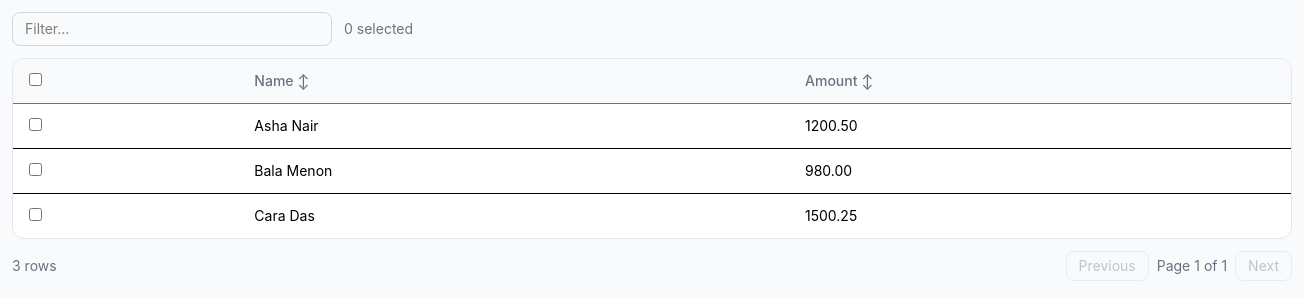
Scenario: DataTable › selects rows and reports the selection
Click the checkbox named "Select row r1": (36, 124) x1=29 y1=118 x2=42 y2=131
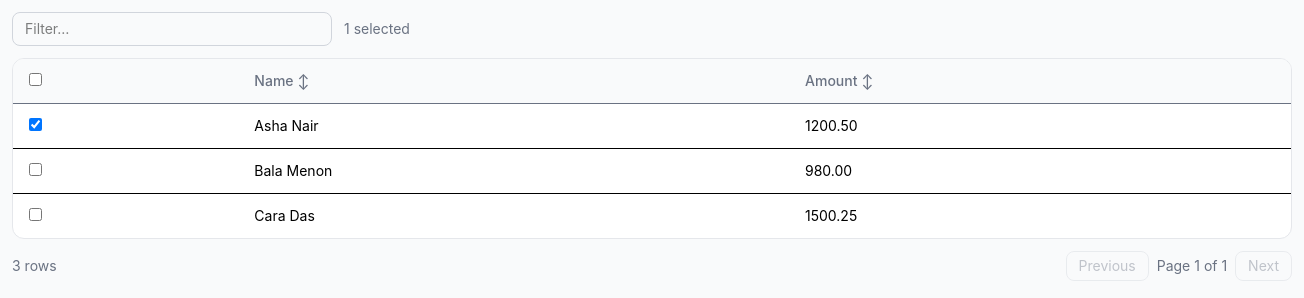
Check: the text "1 selected" is shown, box x1=344 y1=19 x2=410 y2=39
Click the checkbox named "Select all rows on this page": (36, 80) x1=29 y1=73 x2=42 y2=86
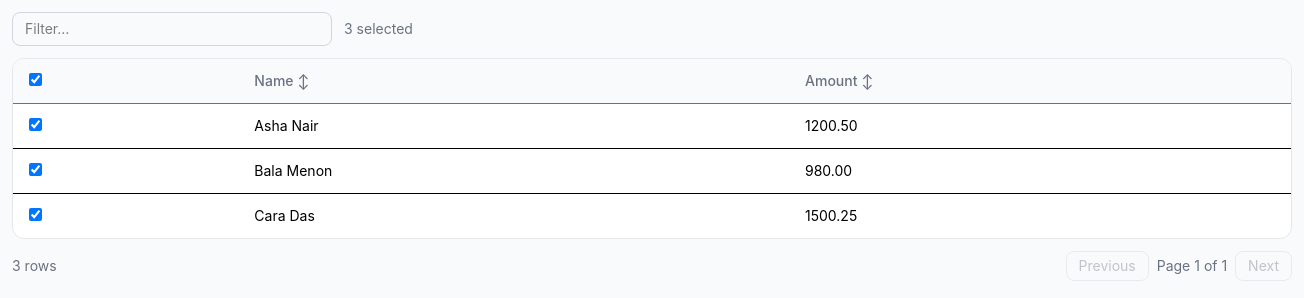
Check: the text "3 selected" is shown, box x1=344 y1=19 x2=413 y2=39
